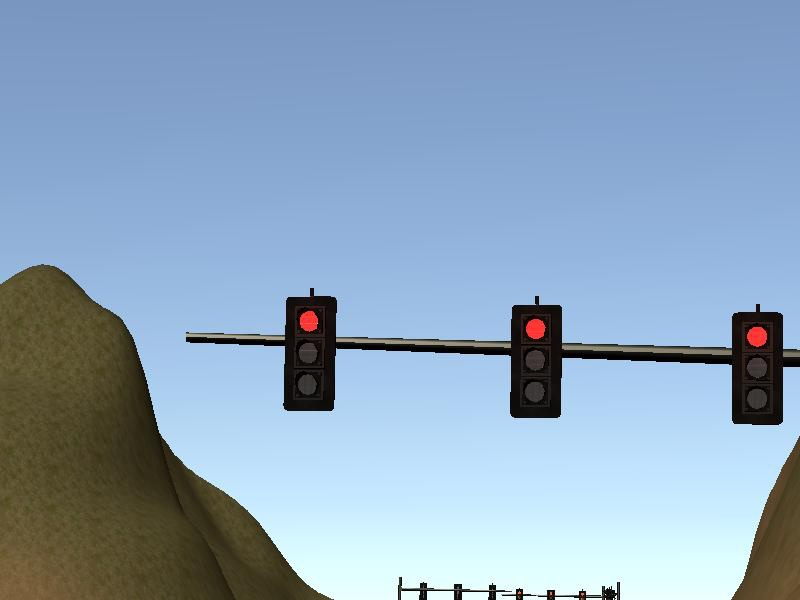red_light: (285, 299, 337, 410), (513, 308, 561, 415), (734, 314, 781, 420)
